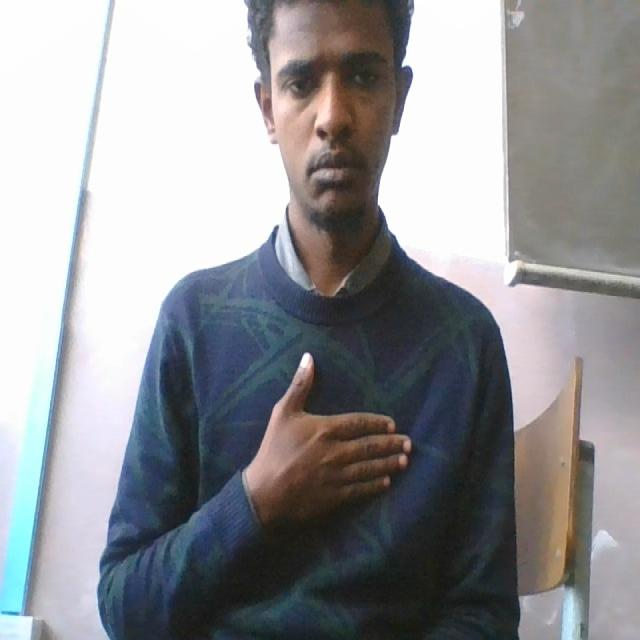yene: (247, 348, 416, 512)
